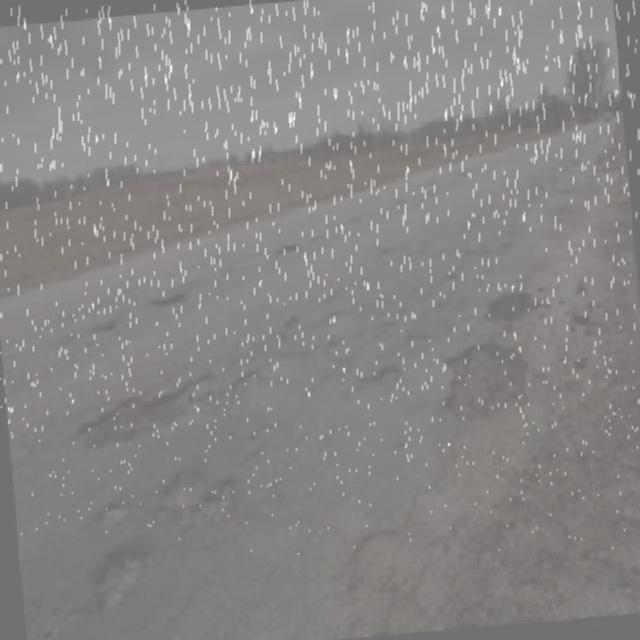Pothole: (323, 470, 479, 636), (62, 349, 259, 457), (63, 502, 188, 624), (436, 335, 546, 436), (467, 278, 563, 335), (338, 366, 407, 415), (143, 277, 195, 324), (260, 236, 308, 268), (74, 312, 130, 338), (275, 318, 303, 331)
